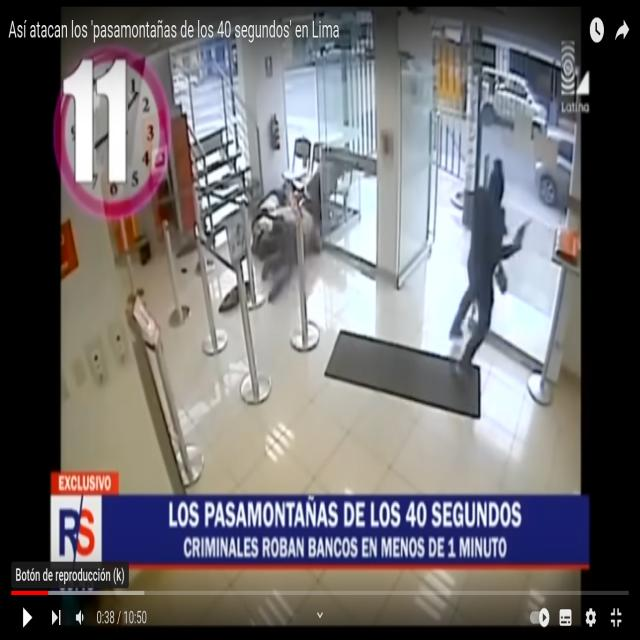FPistol: (515, 205, 533, 253)
